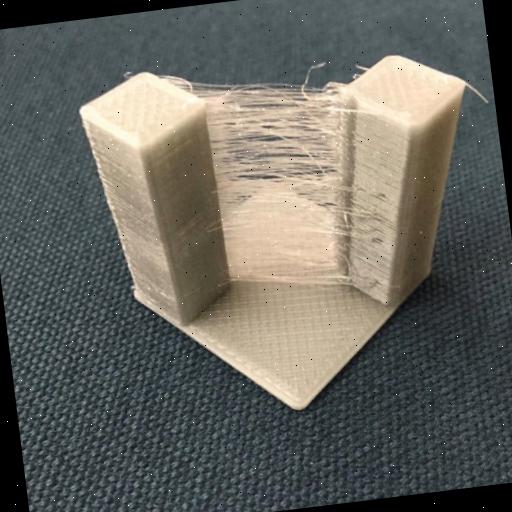stringing: (204, 80, 358, 260)
